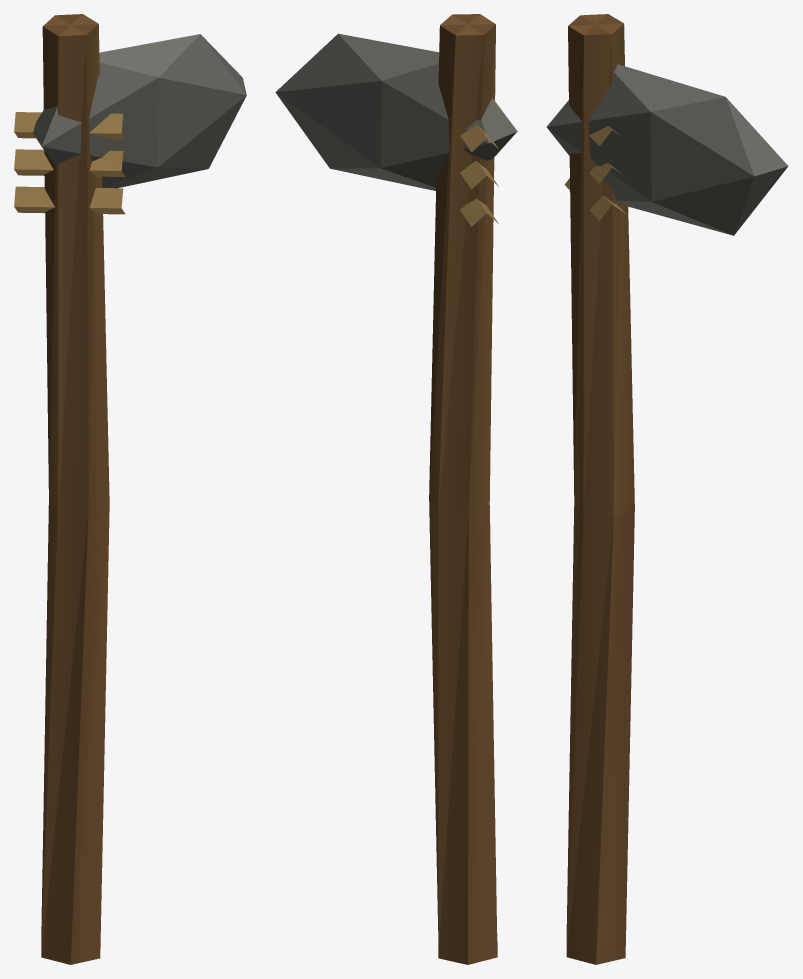
File: stone_axe.glb
3 renders of one model, left to right at view 1: azimuth 30°, elevation 25°; view 2: azimuth 150°, elevation 25°; view 3: azimuth 330°, elevation 25°, orthographic.
Parts seen in each view (by area): view 1: stone_axe_solid; view 2: stone_axe_solid; view 3: stone_axe_solid.
Part boxes in pixels (box(x1,y1,x2,y2)): stone_axe_solid: box(14, 14, 246, 964); stone_axe_solid: box(275, 14, 517, 964); stone_axe_solid: box(546, 14, 788, 964).
Size of the model in its own units: 0.1587 by 0.6207 by 0.0575.
